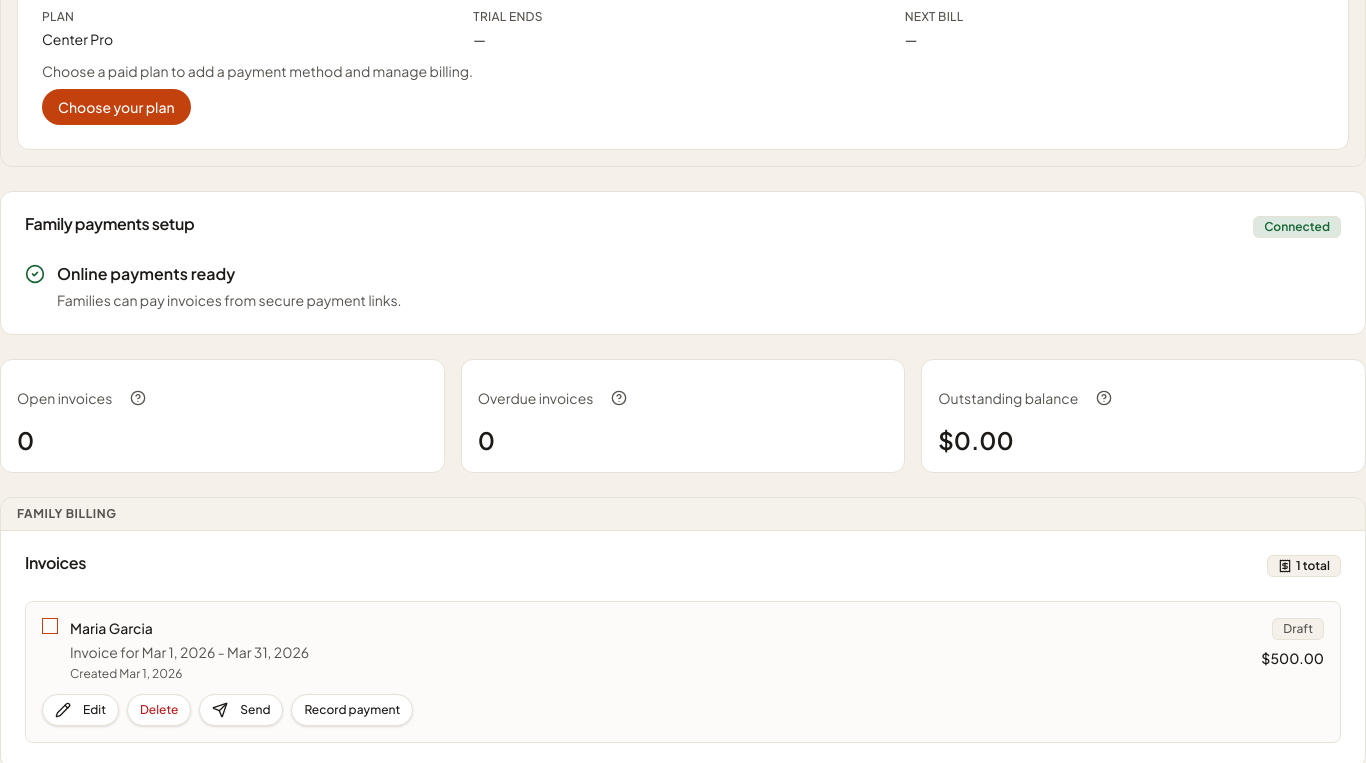
finance routes › billing page invoice creation, send, and payment flows › Send surfaces server error message when mutateAsync throws
(page scrolled)
Click the button "Send": click(241, 710) 199,694 -> 283,726
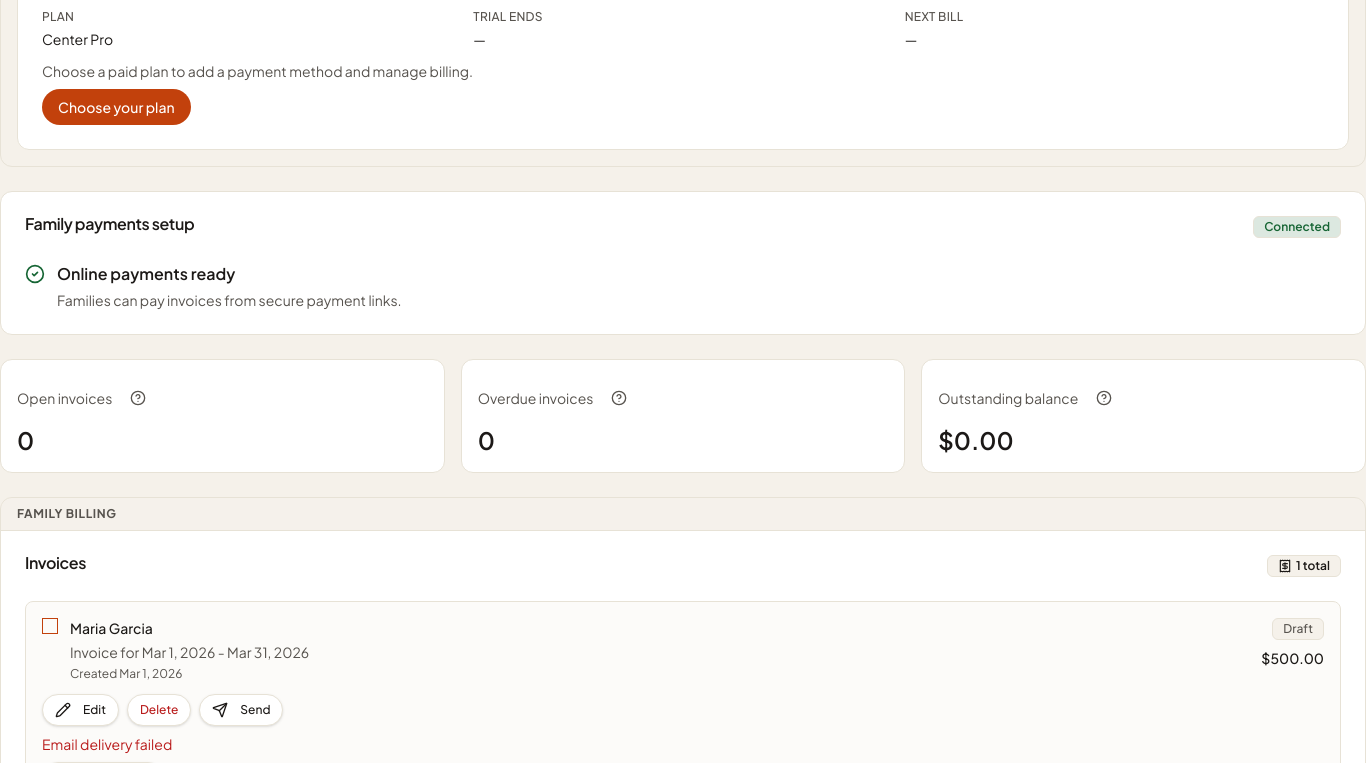
expect the message reads "Email delivery failed": met, box 42,735 -> 172,753
